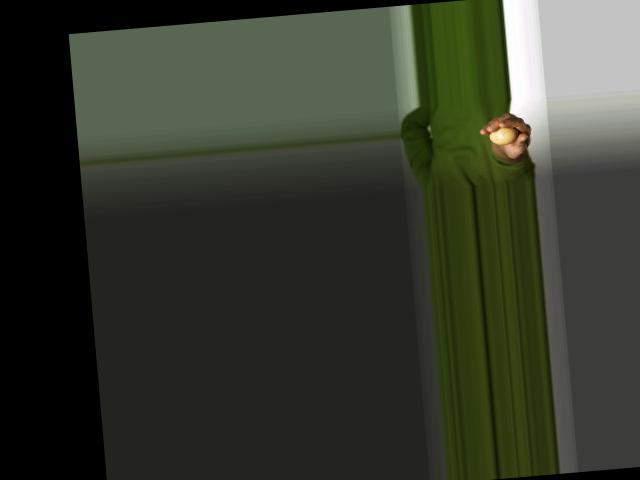egg: (487, 125, 518, 145)
